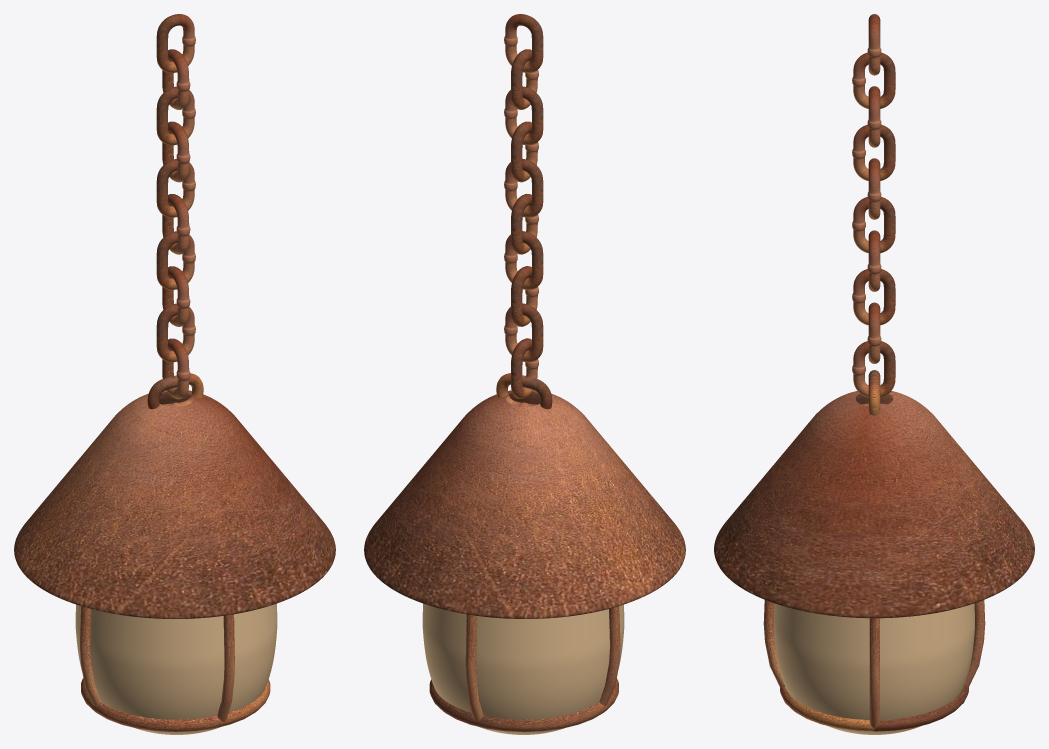
The model's file is 吊燈glossy.FBX.
3 views of the same model, side by side, from view 1: azimuth 30°, elevation 25°; view 2: azimuth 150°, elevation 25°; view 3: azimuth 270°, elevation 25° (orthographic).
Parts seen in each view (by area): view 1: Line001, Line004, Torus001, Rectangle010, Rectangle003, Rectangle008, Rectangle006, Rectangle004, Cylinder004, Cylinder003, Rectangle002, Rectangle007 (+4 smaller); view 2: Line001, Line004, Torus001, Rectangle010, Rectangle003, Rectangle008, Rectangle006, Rectangle004, Cylinder002, Cylinder003, Rectangle002, Rectangle007 (+4 smaller); view 3: Line001, Line004, Torus001, Rectangle011, Rectangle002, Rectangle009, Rectangle005, Rectangle007, Cylinder001, Cylinder004, Cylinder002, Rectangle004 (+5 smaller).
Boxes of the visible parts, bbox=[...] form: Line001: bbox=[14, 390, 335, 618]; Line004: bbox=[75, 603, 277, 734]; Torus001: bbox=[81, 678, 270, 732]; Rectangle010: bbox=[156, 14, 195, 72]; Rectangle003: bbox=[156, 303, 195, 362]; Rectangle008: bbox=[156, 86, 195, 145]; Rectangle006: bbox=[156, 159, 195, 217]; Rectangle004: bbox=[156, 231, 195, 289]; Cylinder004: bbox=[217, 614, 234, 721]; Cylinder003: bbox=[80, 606, 100, 705]; Rectangle002: bbox=[162, 338, 190, 399]; Rectangle007: bbox=[162, 194, 190, 254]; Line001: bbox=[364, 390, 685, 618]; Line004: bbox=[422, 603, 624, 734]; Torus001: bbox=[429, 678, 618, 732]; Rectangle010: bbox=[504, 14, 543, 72]; Rectangle003: bbox=[504, 303, 543, 362]; Rectangle008: bbox=[504, 86, 543, 145]; Rectangle006: bbox=[504, 158, 543, 217]; Rectangle004: bbox=[504, 231, 543, 289]; Cylinder002: bbox=[465, 614, 483, 721]; Cylinder003: bbox=[599, 606, 620, 705]; Rectangle002: bbox=[511, 338, 538, 398]; Rectangle007: bbox=[511, 193, 538, 254]; Line001: bbox=[714, 391, 1034, 618]; Line004: bbox=[774, 603, 974, 734]; Torus001: bbox=[780, 684, 968, 731]; Rectangle011: bbox=[852, 52, 895, 108]; Rectangle002: bbox=[852, 341, 895, 397]; Rectangle009: bbox=[852, 124, 895, 180]; Rectangle005: bbox=[852, 269, 895, 325]; Rectangle007: bbox=[852, 197, 895, 253]; Cylinder001: bbox=[869, 618, 879, 728]; Cylinder004: bbox=[763, 600, 783, 687]; Cylinder002: bbox=[965, 600, 985, 687]; Rectangle004: bbox=[867, 230, 881, 291].
Size of the model in its own units: 13.14 by 31.77 by 13.14.
Materials: 2 (1 with a texture image).
